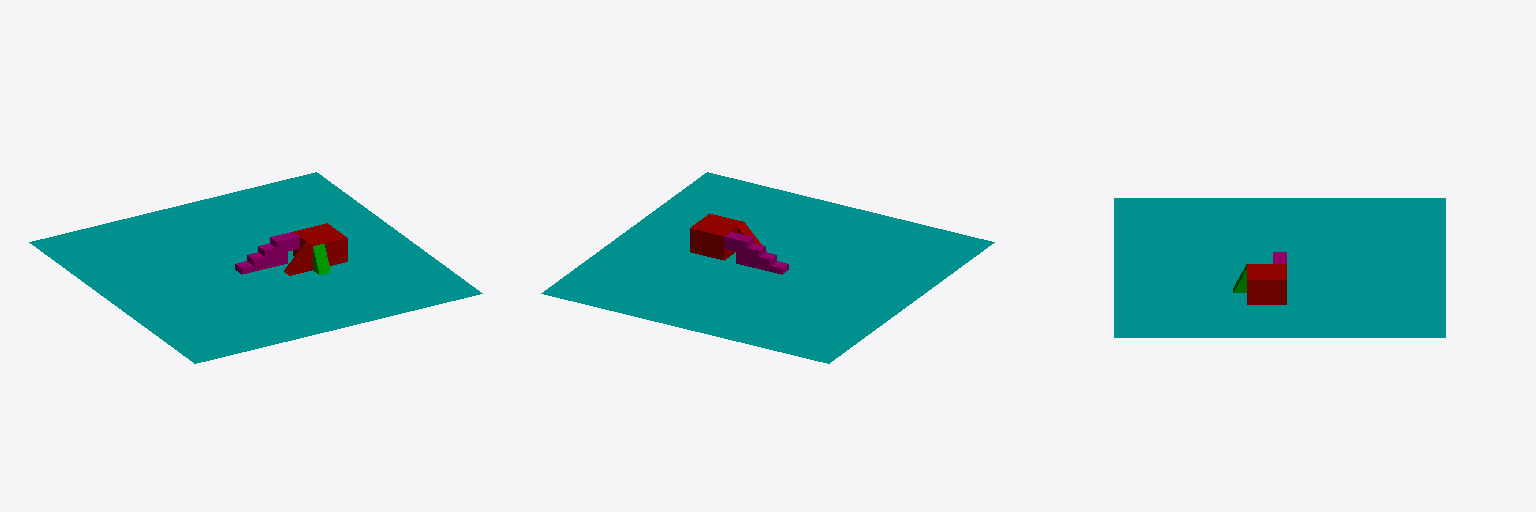
Rendered from Level.obj.
3 views of the same model, side by side, from view 1: azimuth 30°, elevation 25°; view 2: azimuth 150°, elevation 25°; view 3: azimuth 270°, elevation 25° (orthographic).
Parts seen in each view (by area): view 1: Plane; view 2: Plane; view 3: Plane.
Part boxes in pixels (left/top/right/bottom): Plane: left=29, top=172, right=482, bottom=363; Plane: left=541, top=172, right=994, bottom=363; Plane: left=1114, top=198, right=1445, bottom=337.
Size of the model in its own units: 50 by 4 by 50.